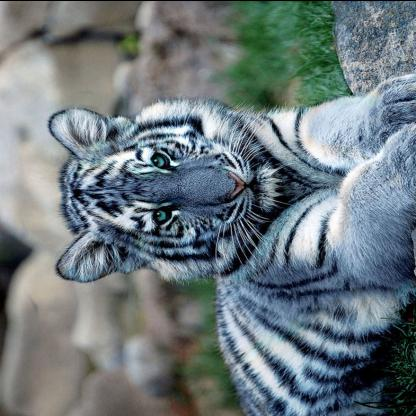tiger: (44, 92, 286, 288)
